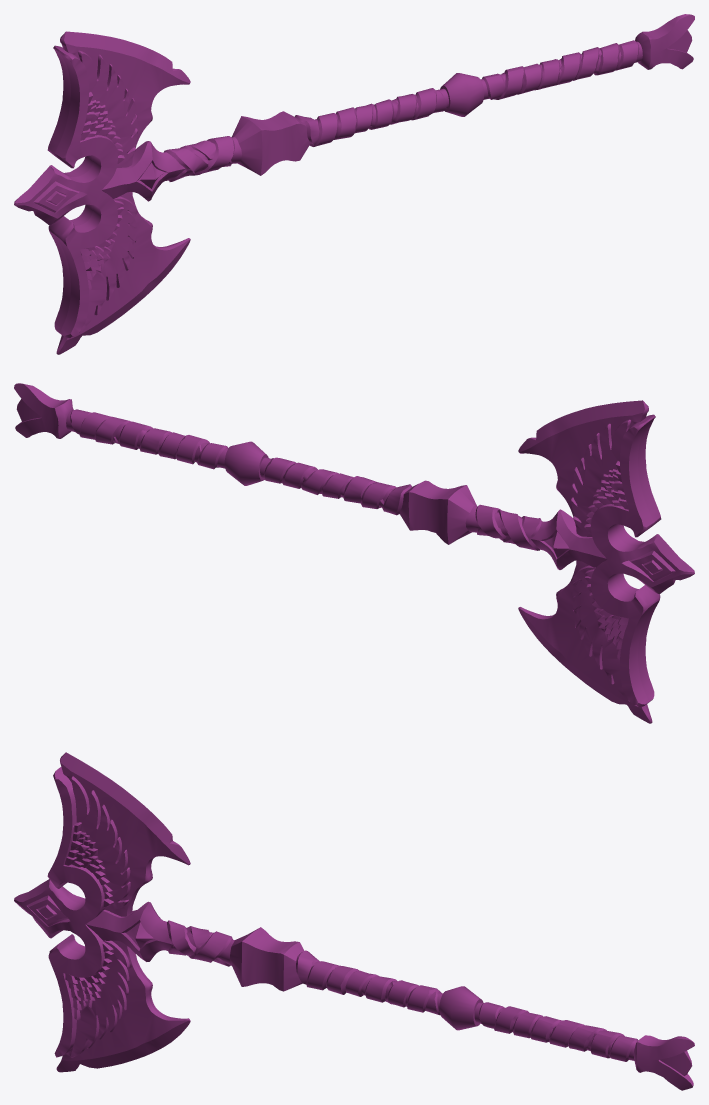
The model's file is SM_Rune_Two_Handed_Poleaxe_1.obj.
3 renders of one model, top to bottom at view 1: azimuth 30°, elevation 25°; view 2: azimuth 150°, elevation 25°; view 3: azimuth 330°, elevation 25°, orthographic.
Visible parts, largest first — view 1: SM_Rune_Two_Handed_Poleaxe_1; view 2: SM_Rune_Two_Handed_Poleaxe_1; view 3: SM_Rune_Two_Handed_Poleaxe_1.
Boxes of the visible parts, box(x1,y1,x2,y2) form: SM_Rune_Two_Handed_Poleaxe_1: box(14, 14, 694, 354); SM_Rune_Two_Handed_Poleaxe_1: box(14, 383, 694, 723); SM_Rune_Two_Handed_Poleaxe_1: box(14, 752, 694, 1090).
Bounding box in the file's own units: 1199 × 541 × 63.09.
